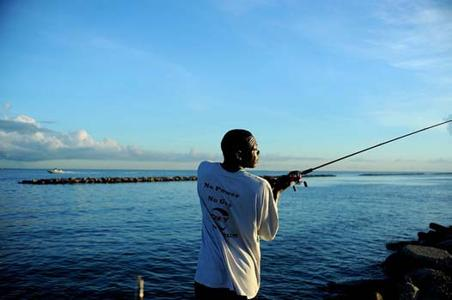person: (198, 130, 302, 300)
